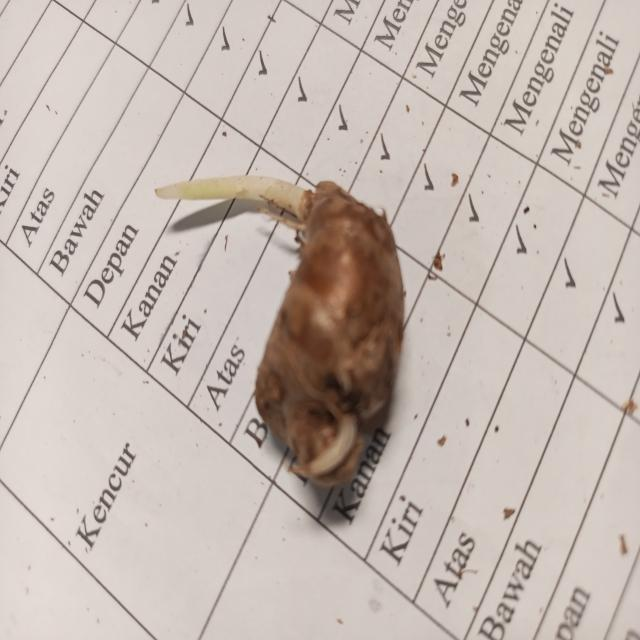ginger: (257, 177, 402, 497)
